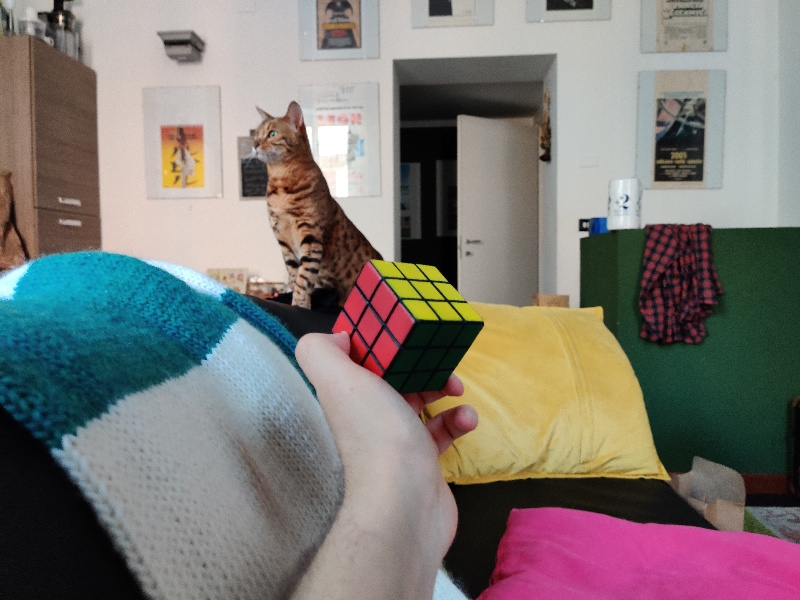rubik: (328, 259, 484, 389)
